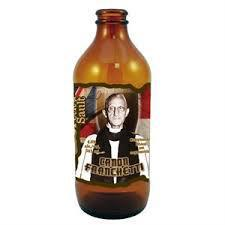beer: (73, 8, 150, 219)
